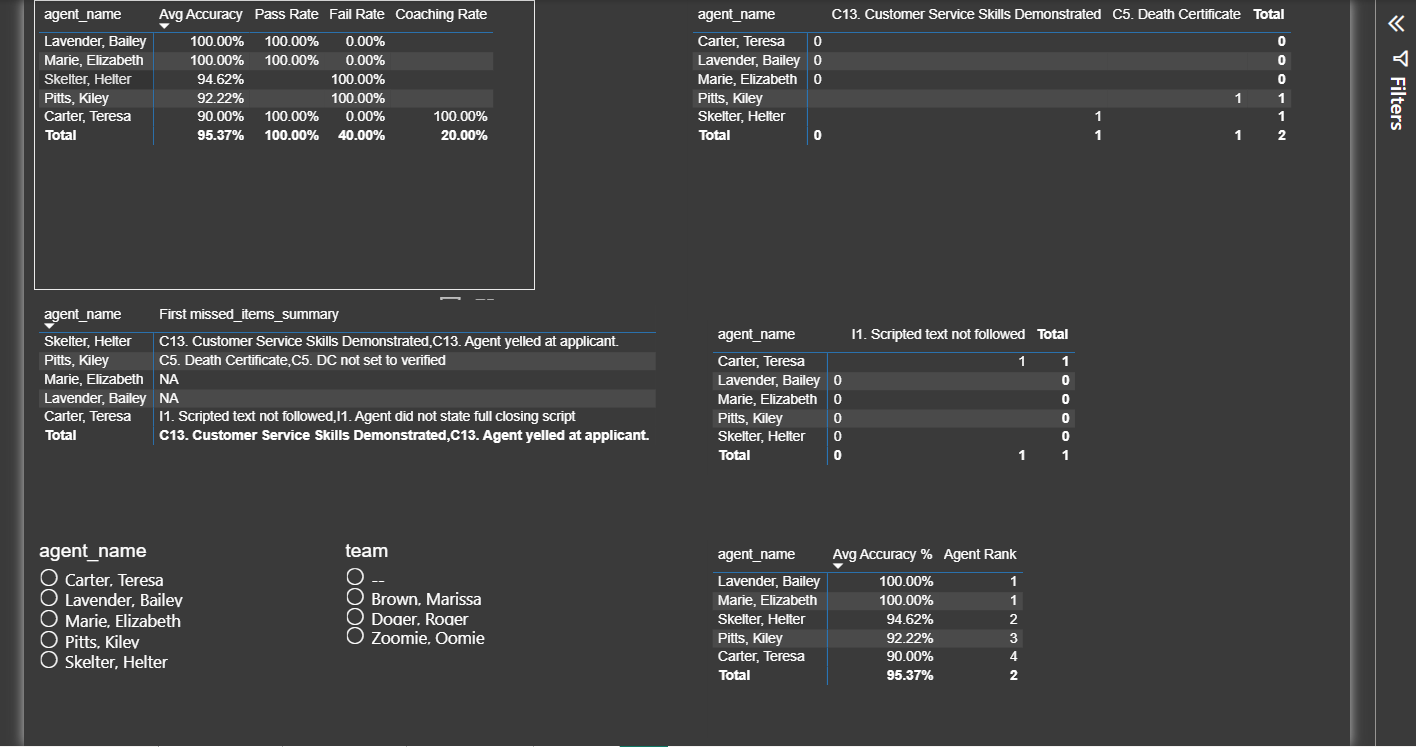

This screenshot's page, from the dashboard's own definition file:
{"tool":"powerbi","page":{"name":"Supervisor","canvas":[1280,720],"ordinal":1},"visuals":[{"type":"pivotTable","fields":{"Rows":["QC_Audit_Data.agent_name"],"Values":["QC_Audit_Data.Avg Accuracy","Sum(QC_Audit_Data.Pass Rate %)","QC_Audit_Data.Fail Rate","QC_Audit_Data.Coaching Rate"]},"box":[9.8,0,484.1,280.2],"z":0},{"type":"pivotTable","fields":{"Rows":["QC_Audit_Data.agent_name"],"Values":["Min(QC_Audit_Data.missed_items_summary)"]},"box":[9.7,289.8,630.3,280.1],"z":1000},{"type":"pivotTable","fields":{"Rows":["QC_Audit_Data.agent_name"],"Columns":["QC_Audit_Data.critical_1","QC_Audit_Data.critical_2","QC_Audit_Data.critical_3"],"Values":["Sum(QC_Audit_Data.critical_misses_count)"]},"box":[640.2,0,640.2,308.6],"z":2000},{"type":"pivotTable","fields":{"Rows":["QC_Audit_Data.agent_name"],"Columns":["QC_Audit_Data.important_1","QC_Audit_Data.important_2","QC_Audit_Data.important_3"],"Values":["Sum(QC_Audit_Data.important_misses_count)"]},"box":[660.4,308.3,570,149.8],"z":3000},{"type":"listSlicer","fields":{"Values":["QC_Audit_Data.agent_name"]},"box":[9.7,521.3,295.7,198.4],"z":4000},{"type":"listSlicer","fields":{"Values":["QC_Audit_Data.team"]},"box":[305,521.4,244.7,189.8],"z":5000},{"type":"pivotTable","fields":{"Rows":["QC_Audit_Data.agent_name"],"Values":["QC_Audit_Data.Avg Accuracy %","QC_Audit_Data.Agent Rank"]},"box":[660,521,570,190],"z":6000}]}

Visuals, with their boxes on the page's 1280x720 design canvas (x1, y1, x2, y2). These are canvas units, not pixel positions in the 1416x747 screenshot, which may show the page scaled, cropped or inside an application window:
pivotTable - QC_Audit_Data.agent_name x QC_Audit_Data.Avg Accuracy: <region>10, 0, 494, 280</region>
pivotTable - QC_Audit_Data.agent_name x Min(QC_Audit_Data.missed_items_summary): <region>10, 290, 640, 570</region>
pivotTable - QC_Audit_Data.agent_name x QC_Audit_Data.critical_1: <region>640, 0, 1280, 309</region>
pivotTable - QC_Audit_Data.agent_name x QC_Audit_Data.important_1: <region>660, 308, 1230, 458</region>
listSlicer - QC_Audit_Data.agent_name: <region>10, 521, 305, 720</region>
listSlicer - QC_Audit_Data.team: <region>305, 521, 550, 711</region>
pivotTable - QC_Audit_Data.agent_name x QC_Audit_Data.Avg Accuracy %: <region>660, 521, 1230, 711</region>
